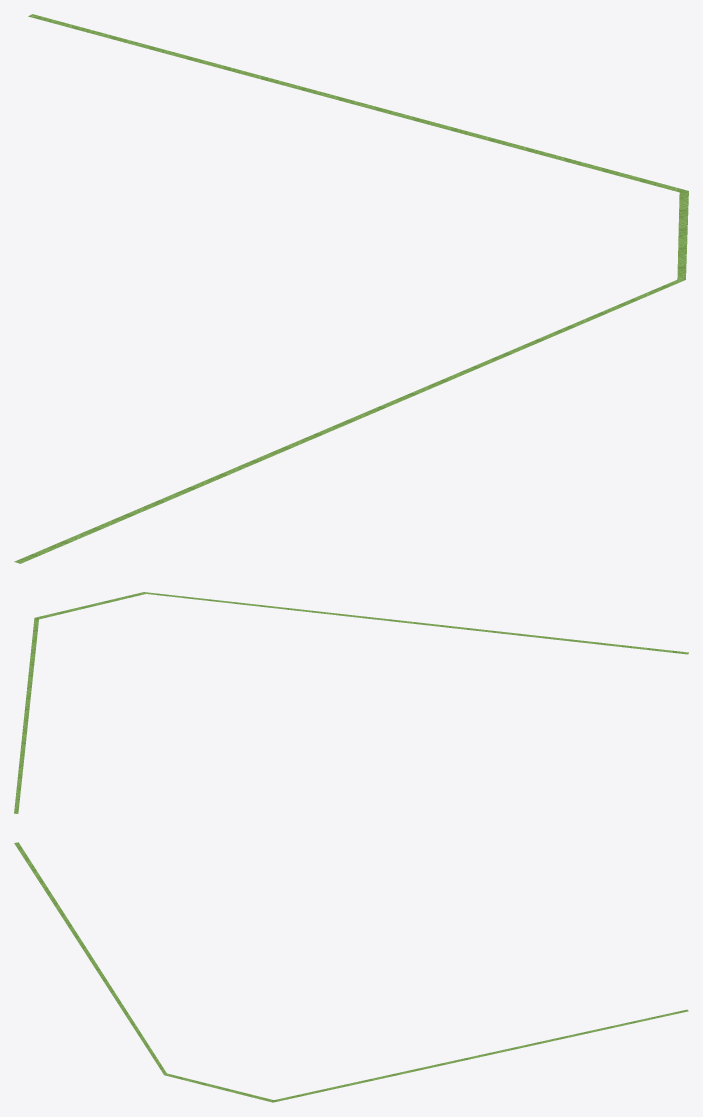
Rendered from kd_stage_1366d7_1_4_bounded.glb.
3 renders of one model, top to bottom at view 1: azimuth 30°, elevation 25°; view 2: azimuth 150°, elevation 25°; view 3: azimuth 270°, elevation 25°, orthographic. The views are drawn at different scales.
Parts seen in each view (by area): view 1: kd_stage_1366d7_1_4_bounded; view 2: kd_stage_1366d7_1_4_bounded; view 3: kd_stage_1366d7_1_4_bounded.
Part boxes in pixels (x1,y1,x2,y2): kd_stage_1366d7_1_4_bounded: [14, 14, 688, 563]; kd_stage_1366d7_1_4_bounded: [14, 592, 688, 813]; kd_stage_1366d7_1_4_bounded: [14, 842, 688, 1102].
Bounding box in the file's own units: 32.41 × 0 × 35.5.
1 material, 1 textured.
